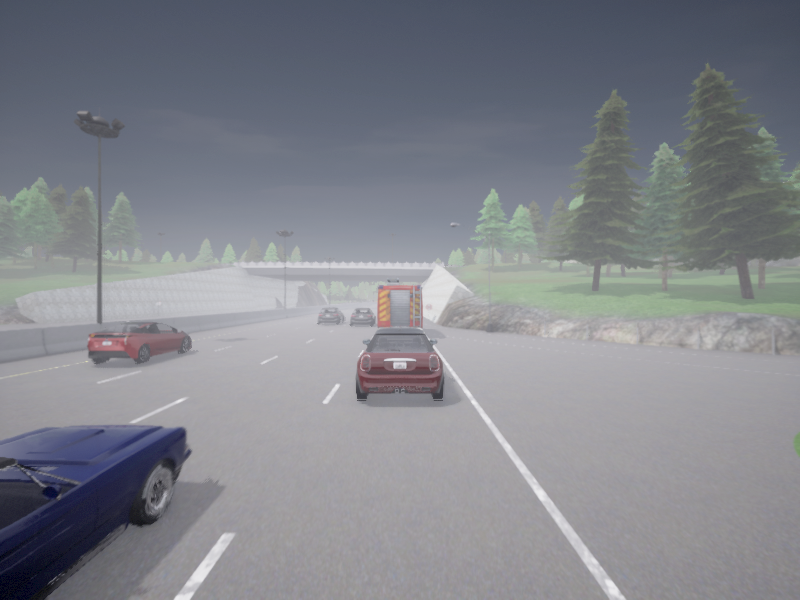vehicle: (0, 425, 191, 599), (355, 326, 444, 399), (87, 322, 191, 363), (378, 278, 422, 328), (350, 308, 375, 325), (318, 307, 344, 323)
